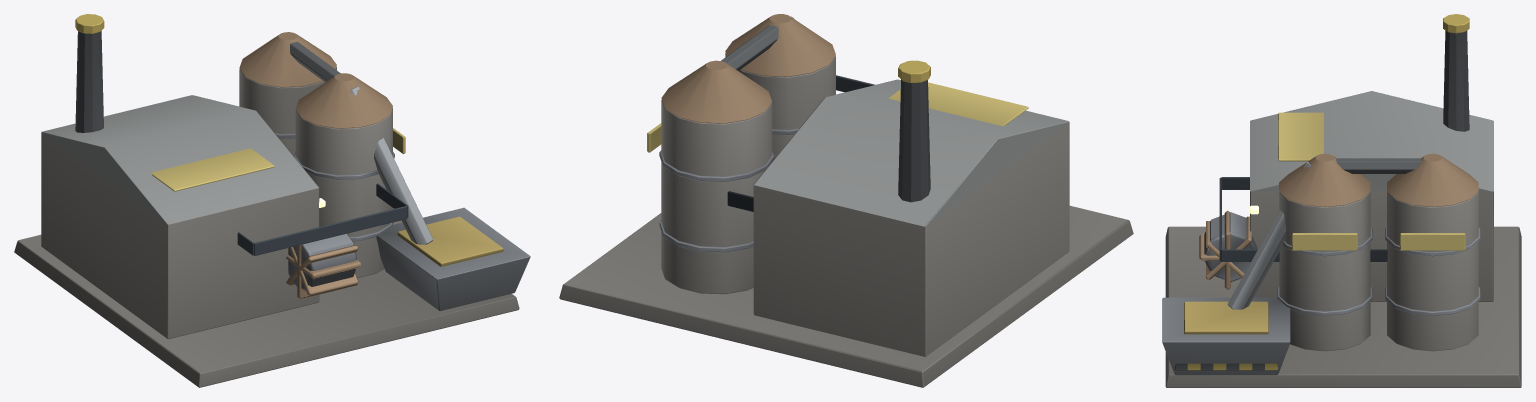
File: refinery.glb
3 renders of one model, left to right at view 1: azimuth 30°, elevation 25°; view 2: azimuth 150°, elevation 25°; view 3: azimuth 270°, elevation 25°, orthographic. The views are drawn at different scales.
Visible parts, largest first — view 1: Body, Machinery; view 2: Body; view 3: Body, Machinery.
Boxes of the visible parts, x1=… form: Body: x1=14, y1=14, x2=530, y2=387; Machinery: x1=286, y1=233, x2=361, y2=298; Body: x1=559, y1=14, x2=1133, y2=387; Body: x1=1162, y1=14, x2=1521, y2=387; Machinery: x1=1199, y1=210, x2=1258, y2=289.
Bounding box in the file's own units: 7.81 × 5.6 × 7.66.
